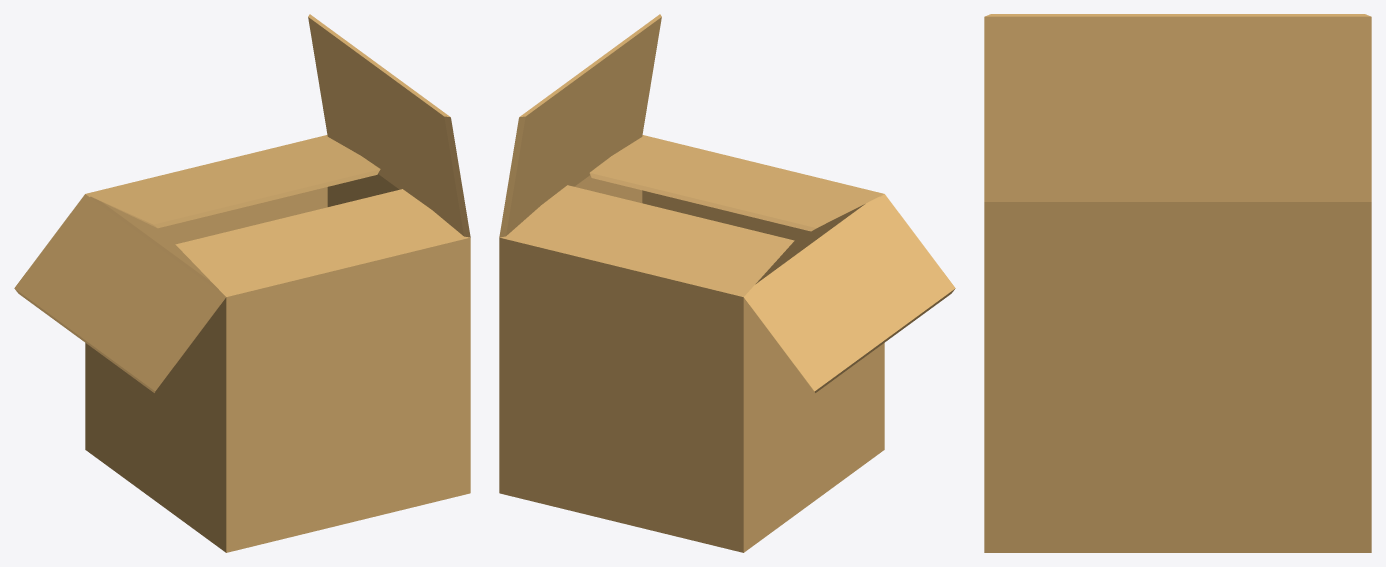
The model's file is cardboardBox.fbx.
The picture shows the model from 3 angles, left to right: view 1: azimuth 30°, elevation 25°; view 2: azimuth 150°, elevation 25°; view 3: azimuth 270°, elevation 25°; orthographic projection. The views are drawn at different scales.
Parts seen in each view (by area): view 1: Carboard Box; view 2: Carboard Box; view 3: Carboard Box.
Boxes of the visible parts, x1,y1,x2,y2 form: Carboard Box: [14, 14, 470, 552]; Carboard Box: [499, 14, 955, 552]; Carboard Box: [984, 14, 1371, 552].
Size of the model in its own units: 1527 by 1184 by 1763.
